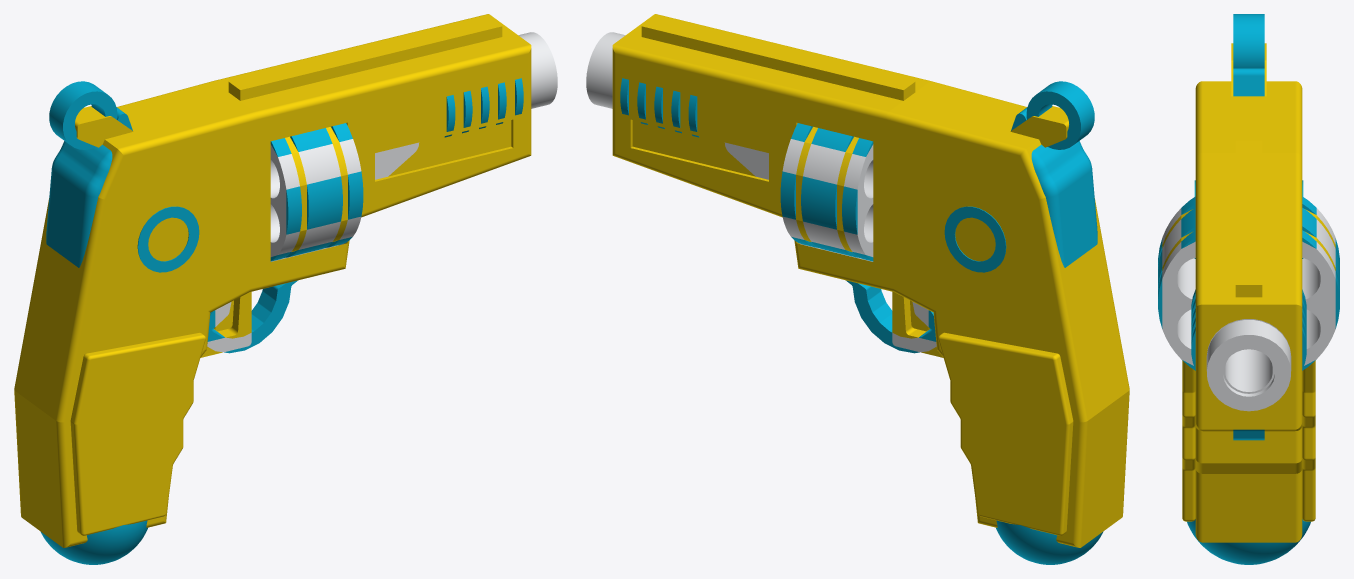
The picture shows the model from 3 angles, left to right: view 1: azimuth 30°, elevation 25°; view 2: azimuth 150°, elevation 25°; view 3: azimuth 270°, elevation 25°; orthographic projection. The views are drawn at different scales.
Parts seen in each view (by area): view 1: =>[0:1:1:104], =>[0:1:1:122], =>[0:1:1:51], =>[0:1:1:25], =>[0:1:1:97], =>[0:1:1:94], =>[0:1:1:55], =>[0:1:1:49], =>[0:1:1:101], =>[0:1:1:61], =>[0:1:1:127], =>[0:1:1:106] (+4 smaller); view 2: =>[0:1:1:104], =>[0:1:1:121], =>[0:1:1:51], =>[0:1:1:25], =>[0:1:1:97], =>[0:1:1:94], =>[0:1:1:54], =>[0:1:1:49], =>[0:1:1:101], =>[0:1:1:60], =>[0:1:1:127], =>[0:1:1:105] (+4 smaller); view 3: =>[0:1:1:104], =>[0:1:1:25], =>[0:1:1:49], =>[0:1:1:121], =>[0:1:1:122], =>[0:1:1:94], =>[0:1:1:26], =>[0:1:1:97], =>[0:1:1:96], =>[0:1:1:101], =>[0:1:1:68], =>[0:1:1:71] (+1 smaller).
Boxes of the visible parts, left/top/right/bottom form: =>[0:1:1:104]: left=14, top=14, right=531, bottom=547; =>[0:1:1:122]: left=70, top=332, right=205, bottom=535; =>[0:1:1:51]: left=46, top=141, right=112, bottom=267; =>[0:1:1:25]: left=270, top=139, right=361, bottom=256; =>[0:1:1:97]: left=49, top=81, right=117, bottom=149; =>[0:1:1:94]: left=40, top=520, right=147, bottom=564; =>[0:1:1:55]: left=137, top=206, right=199, bottom=272; =>[0:1:1:49]: left=518, top=32, right=557, bottom=108; =>[0:1:1:101]: left=224, top=280, right=297, bottom=353; =>[0:1:1:61]: left=307, top=176, right=342, bottom=229; =>[0:1:1:127]: left=75, top=106, right=133, bottom=147; =>[0:1:1:106]: left=148, top=217, right=188, bottom=261; =>[0:1:1:104]: left=612, top=14, right=1129, bottom=547; =>[0:1:1:121]: left=938, top=332, right=1073, bottom=535; =>[0:1:1:51]: left=1031, top=141, right=1097, bottom=267; =>[0:1:1:25]: left=782, top=139, right=873, bottom=256; =>[0:1:1:97]: left=1026, top=81, right=1094, bottom=149; =>[0:1:1:94]: left=996, top=520, right=1103, bottom=564; =>[0:1:1:54]: left=944, top=206, right=1006, bottom=272; =>[0:1:1:49]: left=586, top=32, right=625, bottom=108; =>[0:1:1:101]: left=846, top=280, right=919, bottom=353; =>[0:1:1:60]: left=801, top=176, right=836, bottom=229; =>[0:1:1:127]: left=1010, top=106, right=1068, bottom=147; =>[0:1:1:105]: left=955, top=217, right=995, bottom=261; =>[0:1:1:104]: left=1195, top=81, right=1302, bottom=542; =>[0:1:1:25]: left=1162, top=208, right=1335, bottom=365; =>[0:1:1:49]: left=1206, top=320, right=1291, bottom=411; =>[0:1:1:121]: left=1302, top=360, right=1315, bottom=521; =>[0:1:1:122]: left=1182, top=360, right=1195, bottom=521; =>[0:1:1:94]: left=1187, top=519, right=1310, bottom=564; =>[0:1:1:26]: left=1223, top=349, right=1274, bottom=393; =>[0:1:1:97]: left=1233, top=14, right=1264, bottom=68; =>[0:1:1:96]: left=1233, top=68, right=1264, bottom=96; =>[0:1:1:101]: left=1233, top=429, right=1264, bottom=440; =>[0:1:1:68]: left=1302, top=208, right=1316, bottom=237; =>[0:1:1:71]: left=1181, top=208, right=1195, bottom=237.
Bounding box in the file's own units: 148 × 133 × 40.87.
